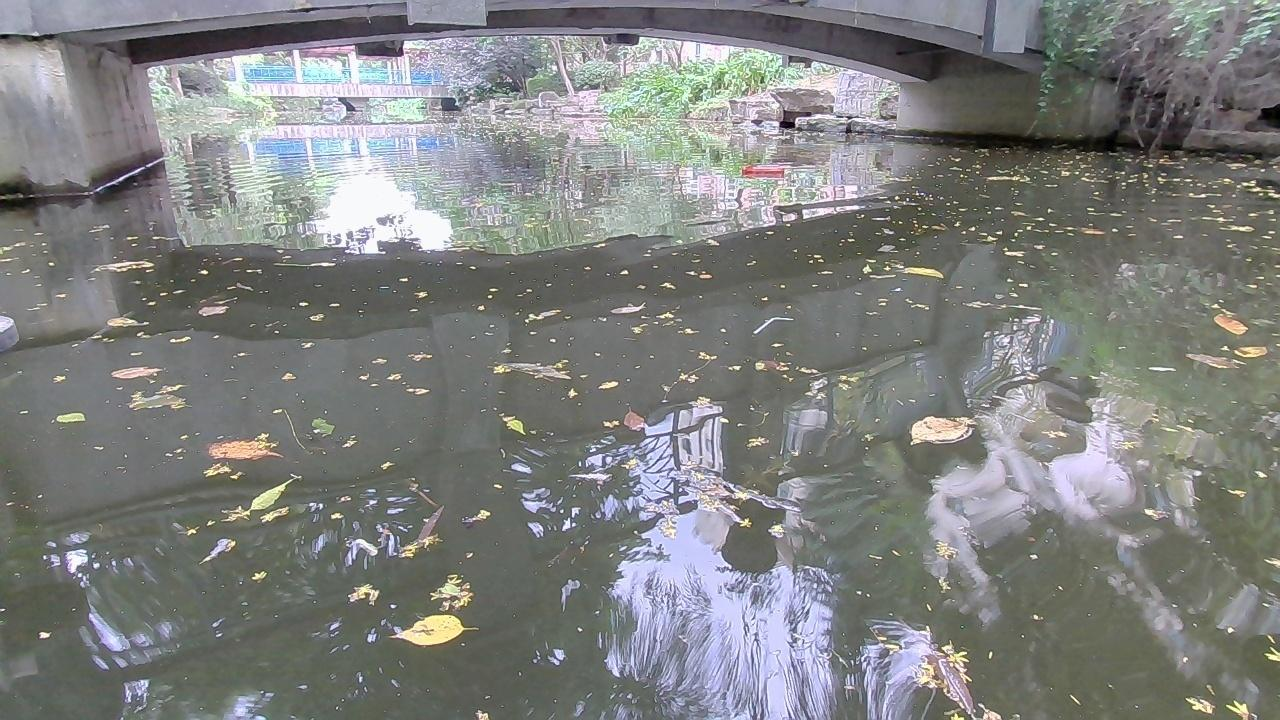bottle: (739, 162, 785, 177)
